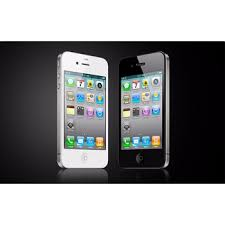iphone: (116, 48, 174, 175), (51, 47, 108, 174)
iphone4: (115, 49, 172, 176), (53, 43, 110, 170)
